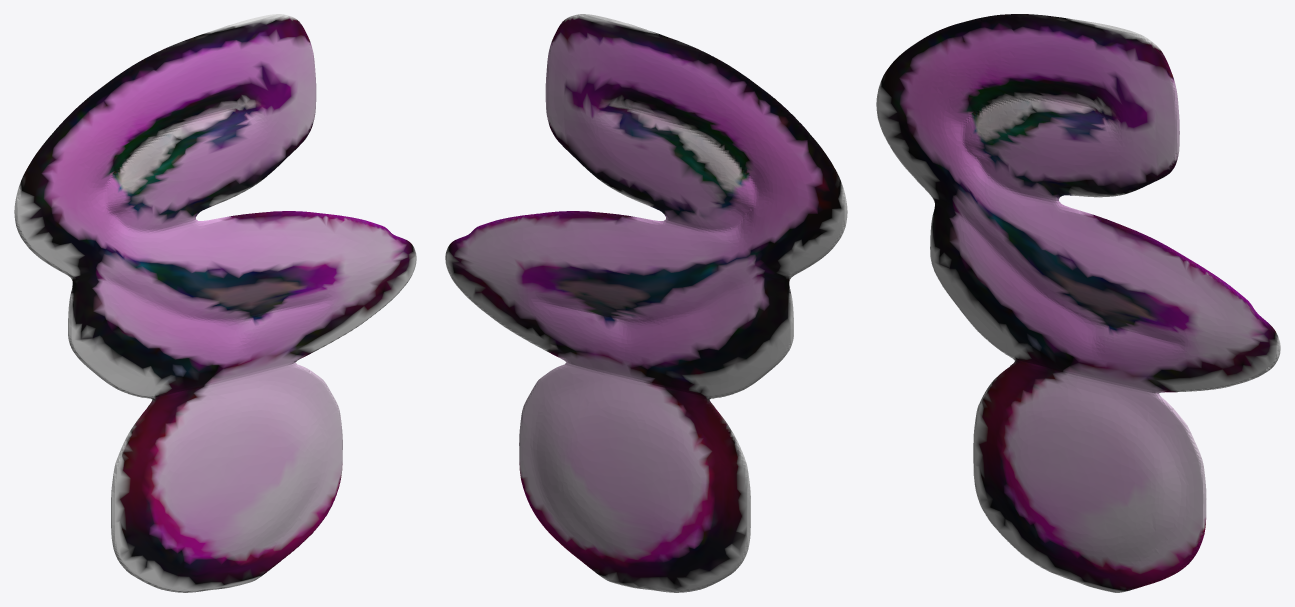
The model's file is amulet_magenta.glb.
3 views of the same model, side by side, from view 1: azimuth 30°, elevation 25°; view 2: azimuth 150°, elevation 25°; view 3: azimuth 330°, elevation 25° (orthographic).
Parts seen in each view (by area): view 1: geometry_0; view 2: geometry_0; view 3: geometry_0.
Boxes of the visible parts, box(x1,y1,x2,y2) form: geometry_0: box(14, 14, 416, 592); geometry_0: box(445, 14, 847, 592); geometry_0: box(876, 14, 1280, 592).
Size of the model in its own units: 0.5 by 0.6698 by 0.0341.
